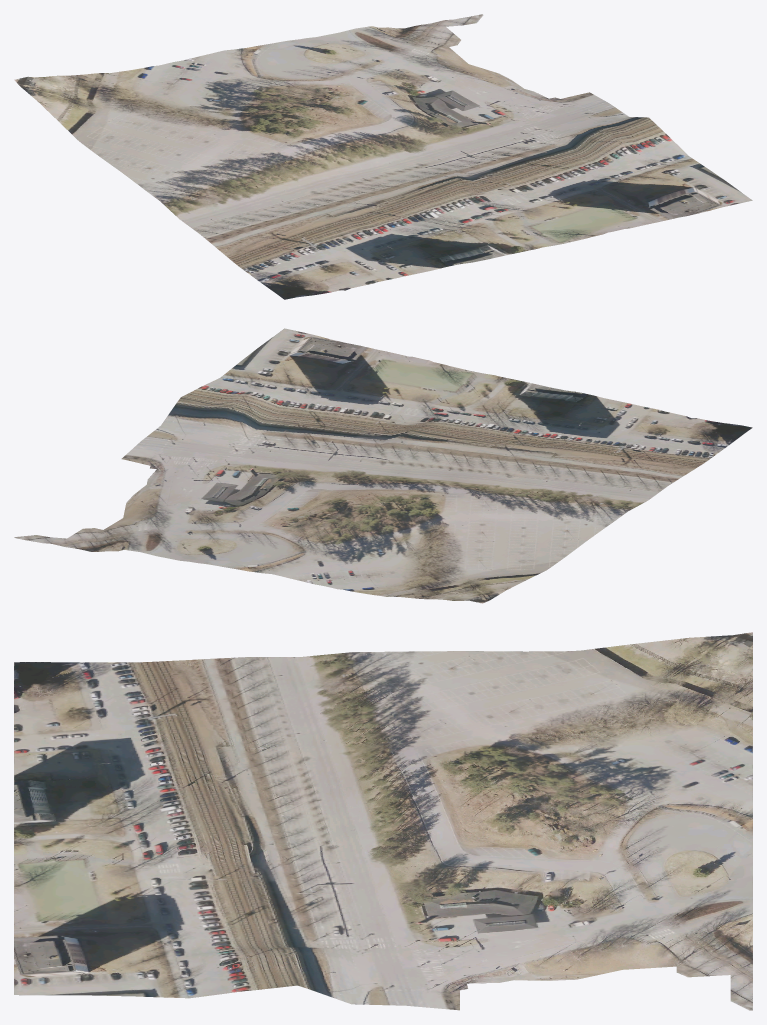
The model's file is CM_Terrain_24486158_6821432.fbx.
3 renders of one model, top to bottom at view 1: azimuth 30°, elevation 25°; view 2: azimuth 150°, elevation 25°; view 3: azimuth 270°, elevation 25°, orthographic. The views are drawn at different scales.
Visible parts, largest first — view 1: CM_Terrain_24486158_6821432_LOD0; view 2: CM_Terrain_24486158_6821432_LOD0; view 3: CM_Terrain_24486158_6821432_LOD0.
Boxes of the visible parts, left/top/right/bottom form: CM_Terrain_24486158_6821432_LOD0: left=14, top=14, right=752, bottom=299; CM_Terrain_24486158_6821432_LOD0: left=14, top=328, right=752, bottom=603; CM_Terrain_24486158_6821432_LOD0: left=14, top=632, right=752, bottom=1010.
Size of what is drawn, in the model's own units: 205 by 20.51 by 205.
